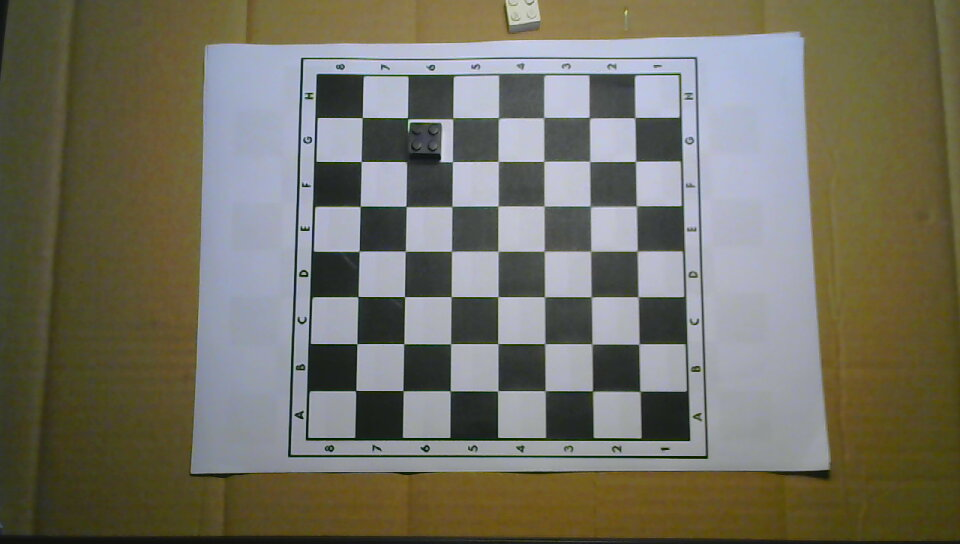bp: (407, 120, 442, 161)
wp: (504, 1, 541, 33)
